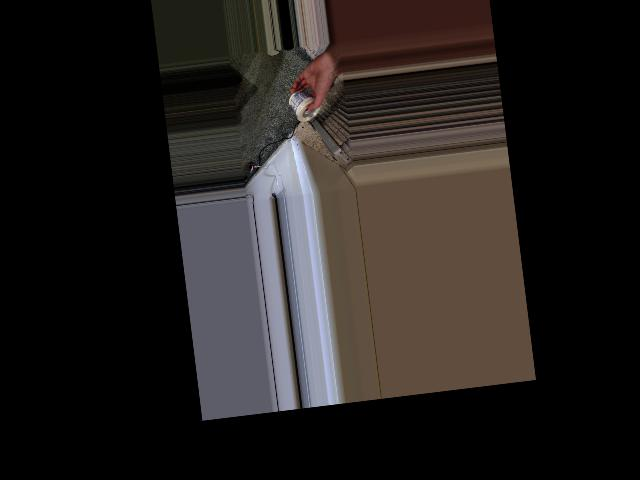cotage: (287, 85, 320, 122)
